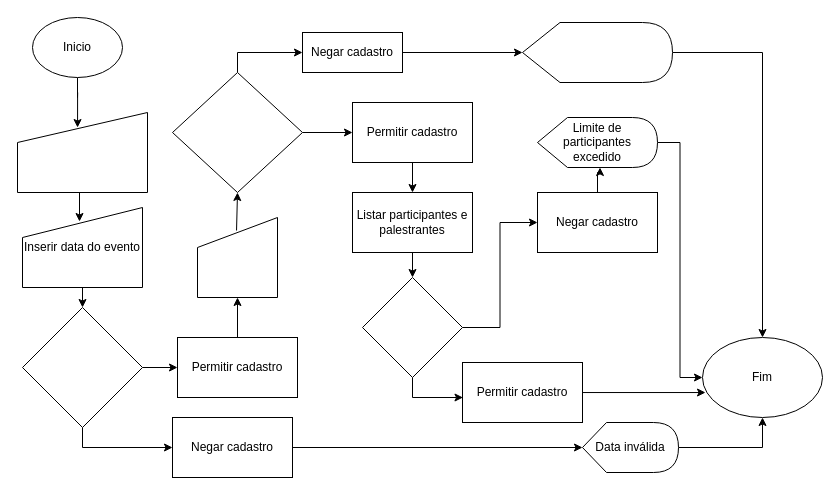
Some shapes in this 840 by 495 pixel diagram are drawn without their labels. The shapes that lost their labels are listed below. From the top down, each one's centre as x and y in pixels, then its label:
[597,52]: Participante menor de idade
[82,152]: Inserir nome do evento
[237,132]: Participante é maior de idade?
[237,257]: Inserir data de nascimento
[412,327]: Numero de participantes < que 100?
[82,367]: Data é > que data atual?
